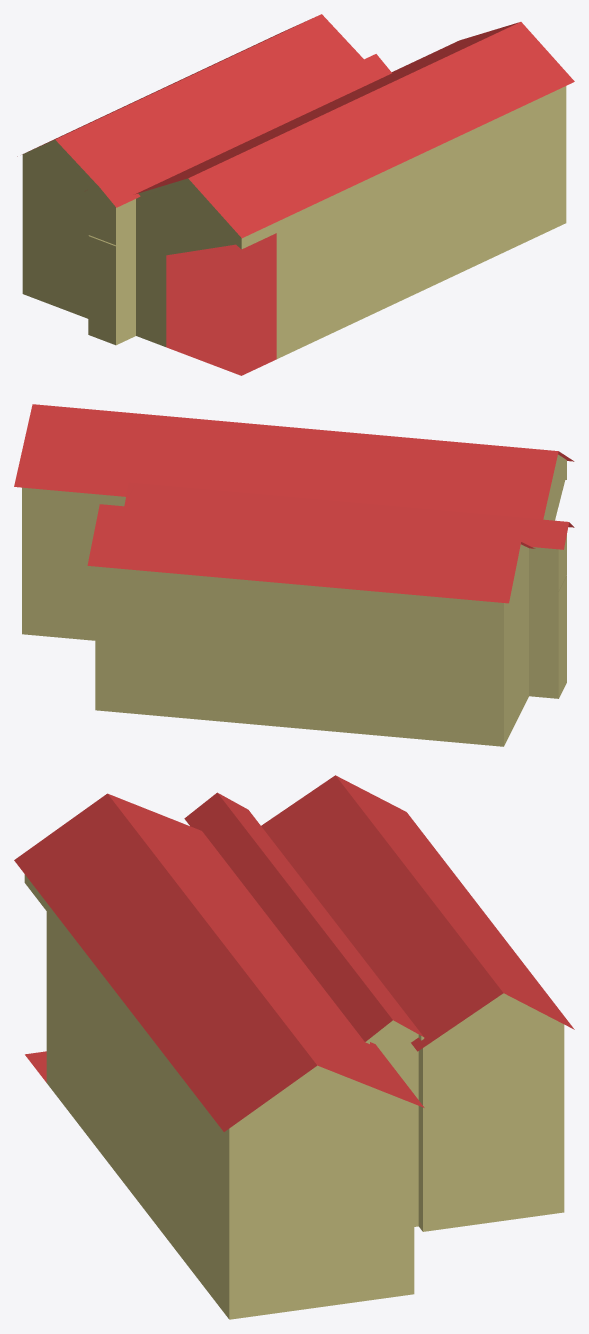
3 renders of one model, top to bottom at view 1: azimuth 30°, elevation 25°; view 2: azimuth 150°, elevation 25°; view 3: azimuth 270°, elevation 25°, orthographic. The views are drawn at different scales.
Size of the model in its own units: 46.36 by 33.57 by 16.22.
